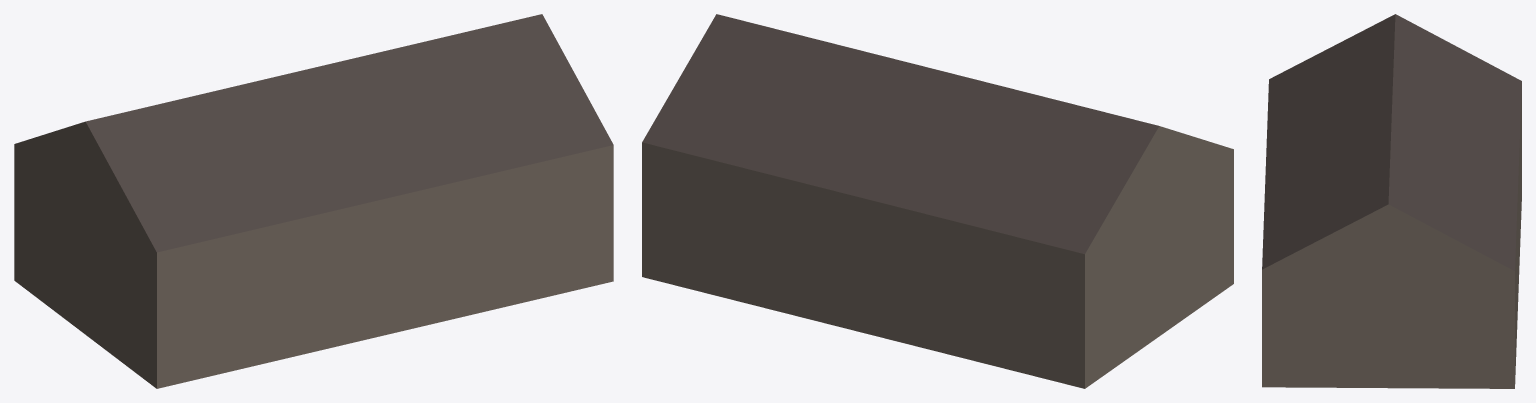
The picture shows the model from 3 angles, left to right: view 1: azimuth 30°, elevation 25°; view 2: azimuth 150°, elevation 25°; view 3: azimuth 270°, elevation 25°; orthographic projection. The views are drawn at different scales.
Parts seen in each view (by area): view 1: HP-w1376988704; view 2: HP-w1376988704; view 3: HP-w1376988704.
Part boxes in pixels (x1,y1,x2,y2): HP-w1376988704: [14, 14, 613, 388]; HP-w1376988704: [642, 14, 1233, 388]; HP-w1376988704: [1262, 14, 1521, 388].
Bounding box in the file's own units: 21.02 × 9.38 × 12.02.
